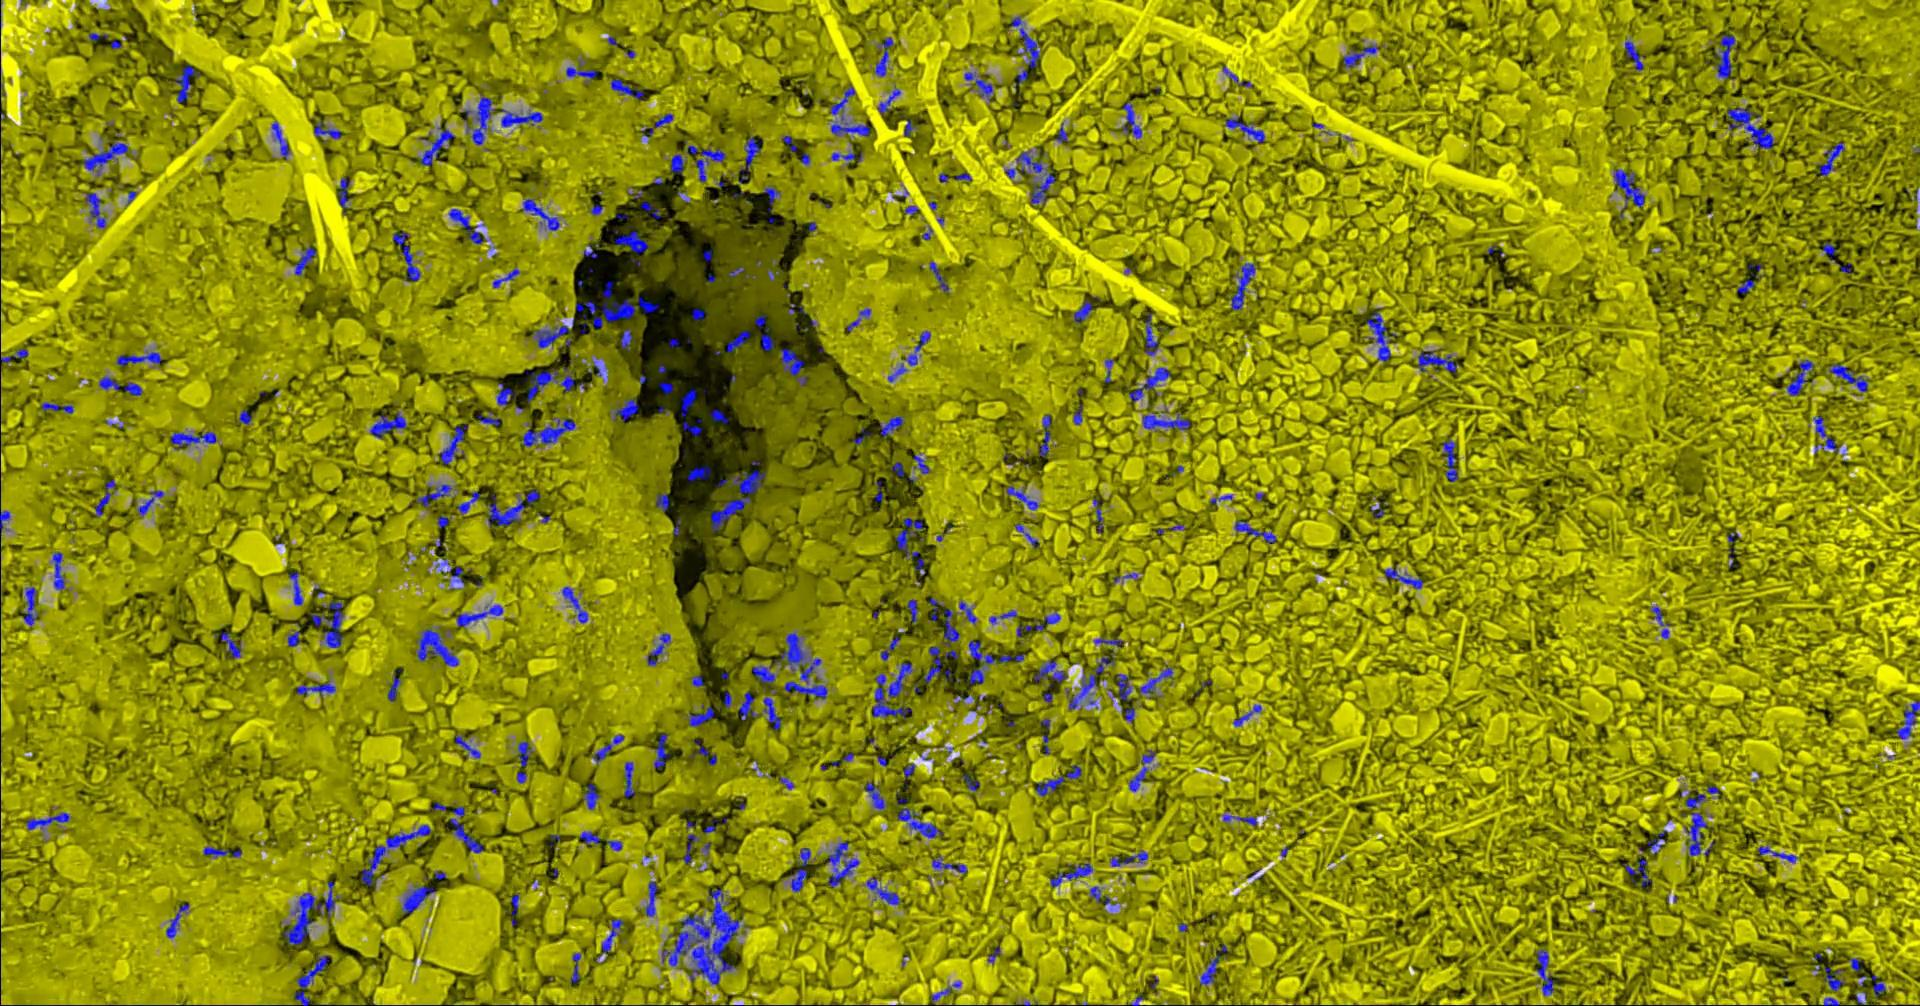ant: (361, 824, 430, 885), (282, 880, 339, 944), (1004, 151, 1055, 207), (1068, 649, 1114, 709), (968, 639, 1023, 683), (871, 662, 912, 716), (1722, 105, 1773, 149), (829, 84, 869, 136), (524, 367, 584, 401), (1683, 789, 1713, 855), (295, 951, 331, 1005), (486, 489, 540, 525), (895, 517, 924, 575), (1613, 168, 1644, 218), (417, 627, 458, 666), (83, 141, 128, 175), (1010, 17, 1039, 69), (310, 601, 343, 647), (522, 418, 575, 446), (466, 93, 495, 144), (1035, 763, 1081, 795), (827, 841, 858, 887), (1366, 311, 1396, 361), (419, 124, 455, 165), (1128, 367, 1170, 401), (897, 807, 943, 837), (686, 145, 725, 180), (392, 231, 420, 281), (448, 208, 486, 243), (446, 818, 483, 852), (1128, 749, 1156, 791), (522, 198, 559, 230), (169, 64, 199, 102), (1199, 944, 1227, 984), (738, 136, 762, 183), (1230, 262, 1255, 309), (1829, 363, 1868, 391), (439, 424, 467, 464), (1139, 666, 1172, 699), (790, 847, 814, 892), (681, 387, 702, 437), (1224, 116, 1263, 142), (1624, 847, 1651, 887), (456, 605, 502, 627), (1535, 949, 1558, 995), (1049, 862, 1092, 887), (780, 347, 806, 385), (1785, 359, 1813, 395), (370, 412, 406, 438), (615, 225, 648, 254), (590, 734, 623, 763), (1234, 520, 1276, 542), (866, 876, 900, 904), (1813, 415, 1839, 452), (401, 885, 434, 913), (1817, 141, 1844, 175), (98, 375, 142, 395), (532, 324, 571, 347), (1142, 412, 1189, 431), (563, 586, 587, 622), (1417, 351, 1458, 372), (904, 330, 930, 365), (1384, 565, 1422, 588), (1032, 661, 1067, 686), (1896, 700, 1919, 738), (964, 71, 992, 102), (1736, 262, 1763, 293), (169, 431, 216, 448), (165, 903, 189, 937), (1716, 34, 1735, 77), (610, 77, 645, 100), (415, 484, 451, 507), (1006, 485, 1039, 509), (646, 633, 670, 666), (1343, 44, 1378, 67), (601, 918, 623, 953), (1813, 964, 1843, 991), (874, 36, 893, 76), (565, 58, 596, 84), (84, 192, 105, 227), (25, 812, 69, 829), (95, 479, 116, 516), (500, 108, 542, 126), (930, 981, 960, 1005), (270, 121, 290, 159), (754, 312, 773, 351), (1121, 102, 1142, 137), (931, 855, 968, 874), (941, 607, 959, 647), (1757, 845, 1797, 862), (215, 631, 240, 658), (1109, 848, 1147, 866), (737, 691, 759, 720), (923, 645, 941, 682), (116, 351, 161, 365), (1443, 439, 1458, 481), (1232, 704, 1260, 727), (1222, 65, 1251, 86), (1624, 39, 1644, 70), (928, 260, 949, 291), (137, 490, 163, 514), (1651, 606, 1670, 638), (865, 781, 886, 809), (296, 680, 335, 695), (295, 246, 315, 276), (1144, 312, 1158, 354), (1037, 414, 1051, 456), (846, 307, 870, 332), (877, 88, 900, 113), (439, 567, 470, 586), (455, 734, 480, 757), (693, 739, 716, 765), (23, 586, 37, 626), (763, 696, 780, 730), (653, 733, 669, 767), (613, 398, 637, 420), (750, 664, 775, 687), (491, 268, 519, 287), (726, 330, 750, 352), (456, 492, 480, 513), (1646, 829, 1667, 854), (688, 706, 714, 727), (337, 177, 350, 213), (0, 348, 27, 367), (1016, 617, 1043, 636), (312, 121, 340, 138), (1073, 298, 1093, 323), (879, 415, 903, 436), (51, 551, 63, 589), (682, 833, 698, 862), (582, 782, 599, 809), (288, 572, 302, 605), (880, 636, 899, 661), (644, 880, 657, 916), (957, 600, 977, 622), (203, 846, 241, 857), (497, 384, 516, 405), (623, 761, 635, 796), (1222, 814, 1257, 826), (830, 152, 862, 165), (686, 465, 710, 481), (1092, 498, 1103, 532), (764, 185, 780, 211), (517, 741, 532, 766), (928, 597, 943, 621), (888, 363, 907, 382), (41, 401, 72, 413), (640, 201, 660, 218), (1090, 887, 1110, 904), (578, 831, 599, 847), (988, 610, 1016, 622), (1116, 673, 1130, 699), (912, 453, 930, 473), (476, 412, 500, 426), (959, 774, 979, 790), (1040, 718, 1049, 754), (387, 676, 400, 701), (852, 427, 870, 445), (670, 152, 686, 173), (570, 951, 580, 982), (618, 329, 632, 351), (1870, 974, 1884, 996), (1093, 636, 1123, 647), (709, 408, 728, 423), (781, 135, 797, 151), (1369, 500, 1385, 517), (1821, 243, 1835, 262), (1015, 69, 1027, 89), (510, 893, 518, 926), (654, 113, 672, 127), (655, 493, 669, 511), (0, 511, 10, 535), (1054, 122, 1067, 141), (902, 763, 914, 782), (236, 409, 251, 424), (907, 600, 917, 622), (287, 629, 300, 647), (778, 775, 794, 789), (1848, 956, 1863, 970), (903, 119, 916, 136), (1121, 705, 1134, 721), (1103, 359, 1112, 382), (658, 381, 673, 394), (891, 461, 904, 476), (1073, 404, 1082, 424), (1043, 612, 1060, 622), (691, 307, 705, 320), (436, 514, 448, 527), (606, 840, 621, 850), (723, 691, 731, 708), (691, 674, 703, 686), (1823, 997, 1840, 1005)
